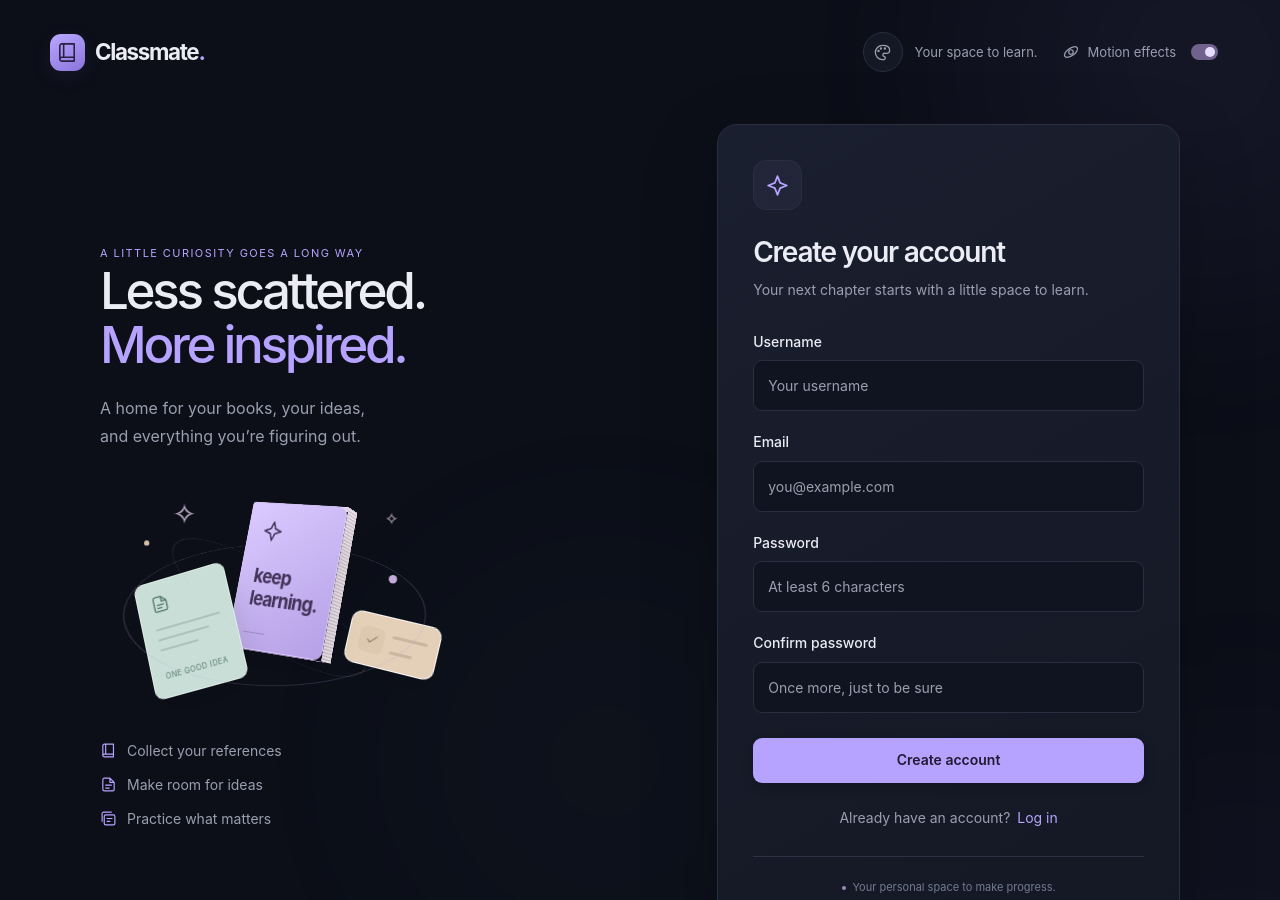
it: authentication and protected pages › keeps registration values and shows password mismatch feedback
Type "student" into the field labelled "Username" at (949, 386), box 753,360 -> 1144,411
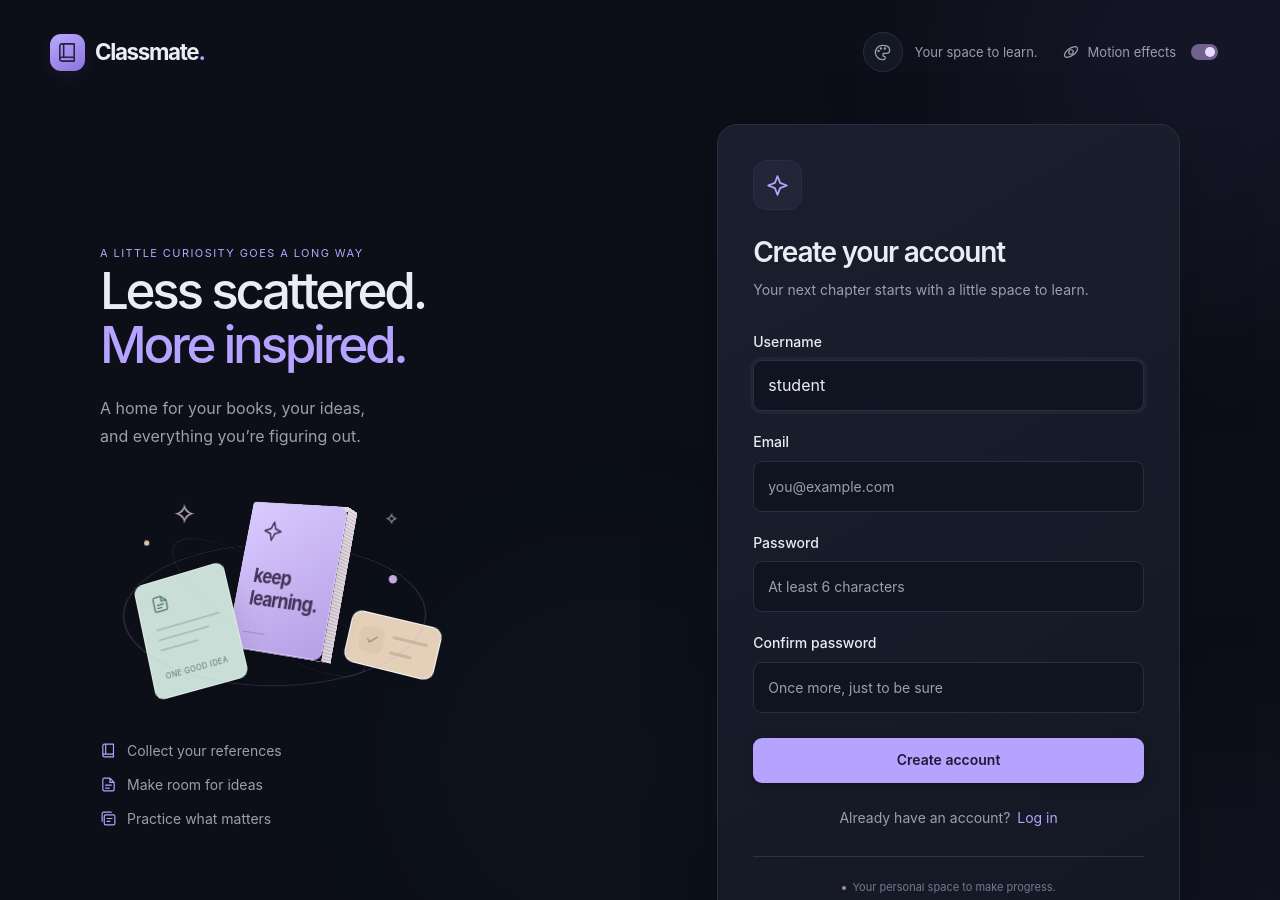
Type "student@example.com" into the field labelled "Email" at (949, 486), box 753,461 -> 1144,512
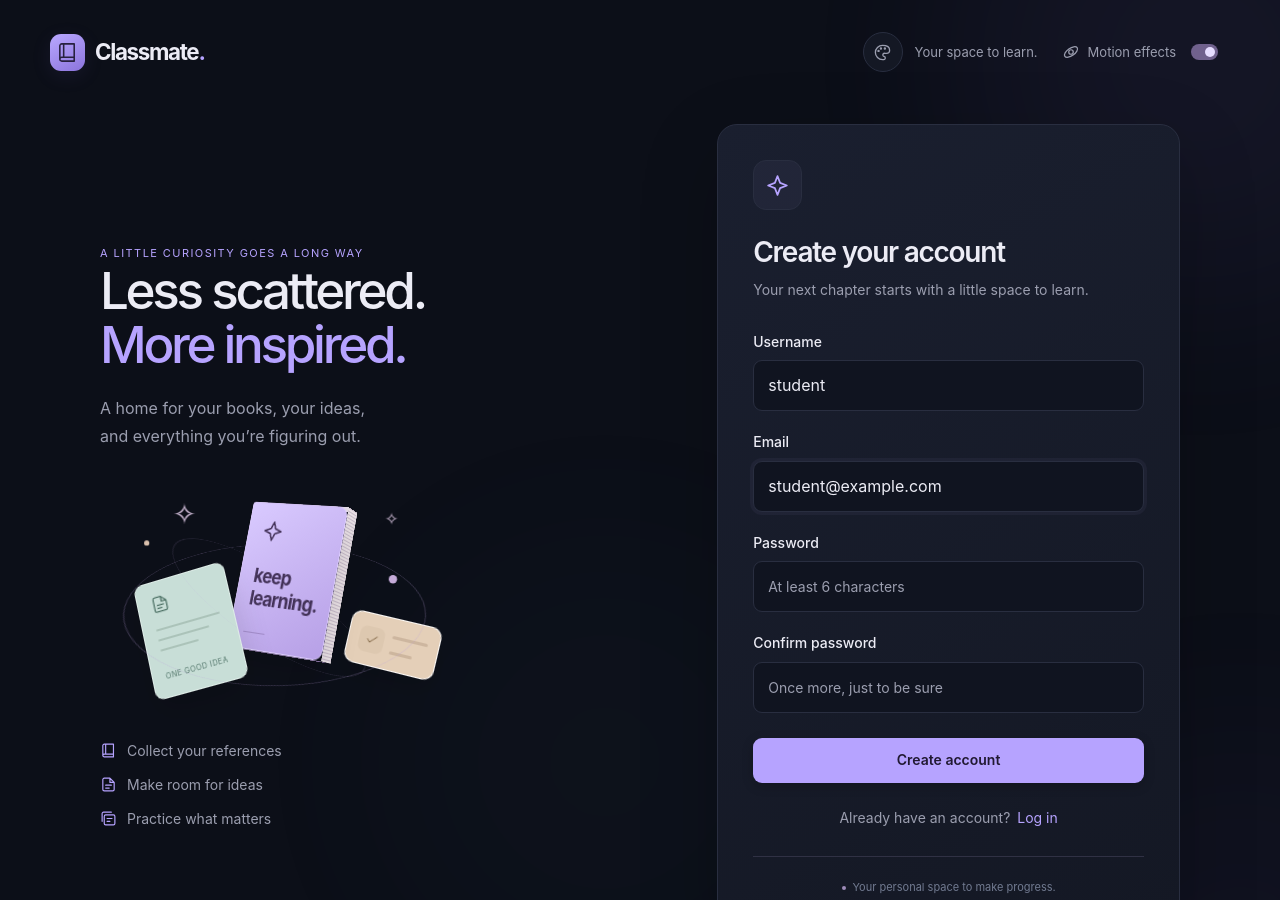
Type "password123" into the password field labelled "Password" at (949, 587), box 753,561 -> 1144,612
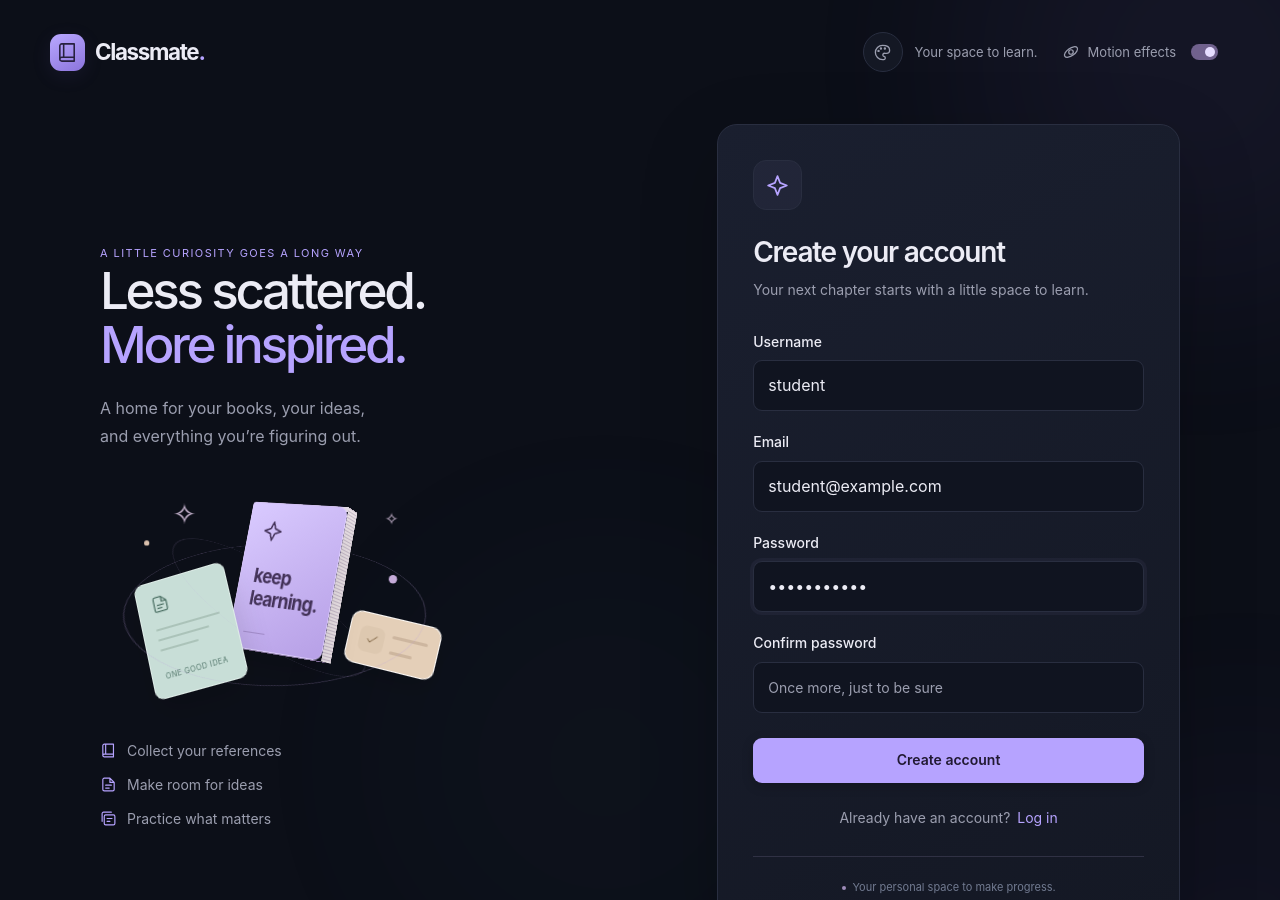
Type "different" into the password field labelled "Confirm password" at (949, 687), box 753,662 -> 1144,713
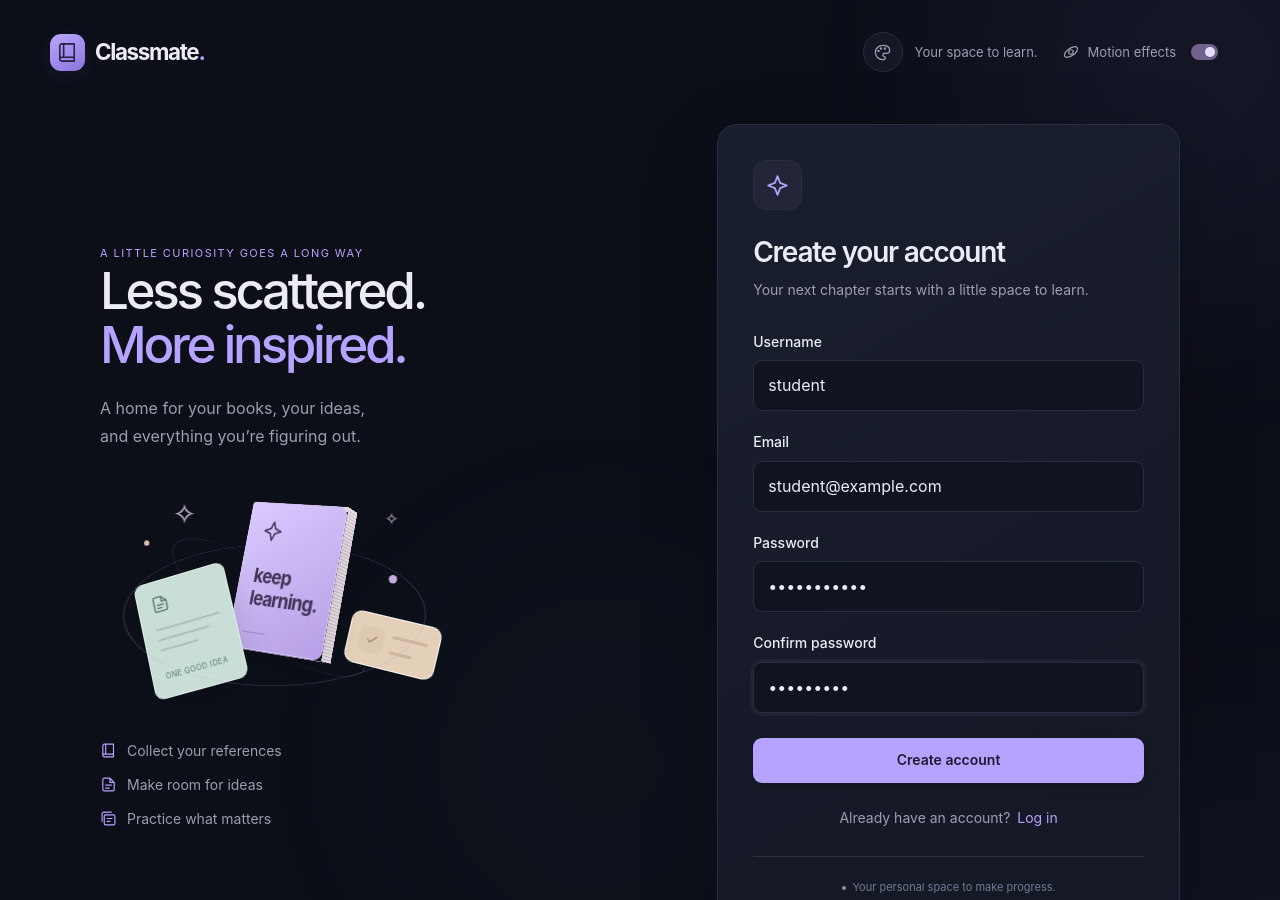
Click the button "Create account" at (949, 760), box 753,738 -> 1144,783
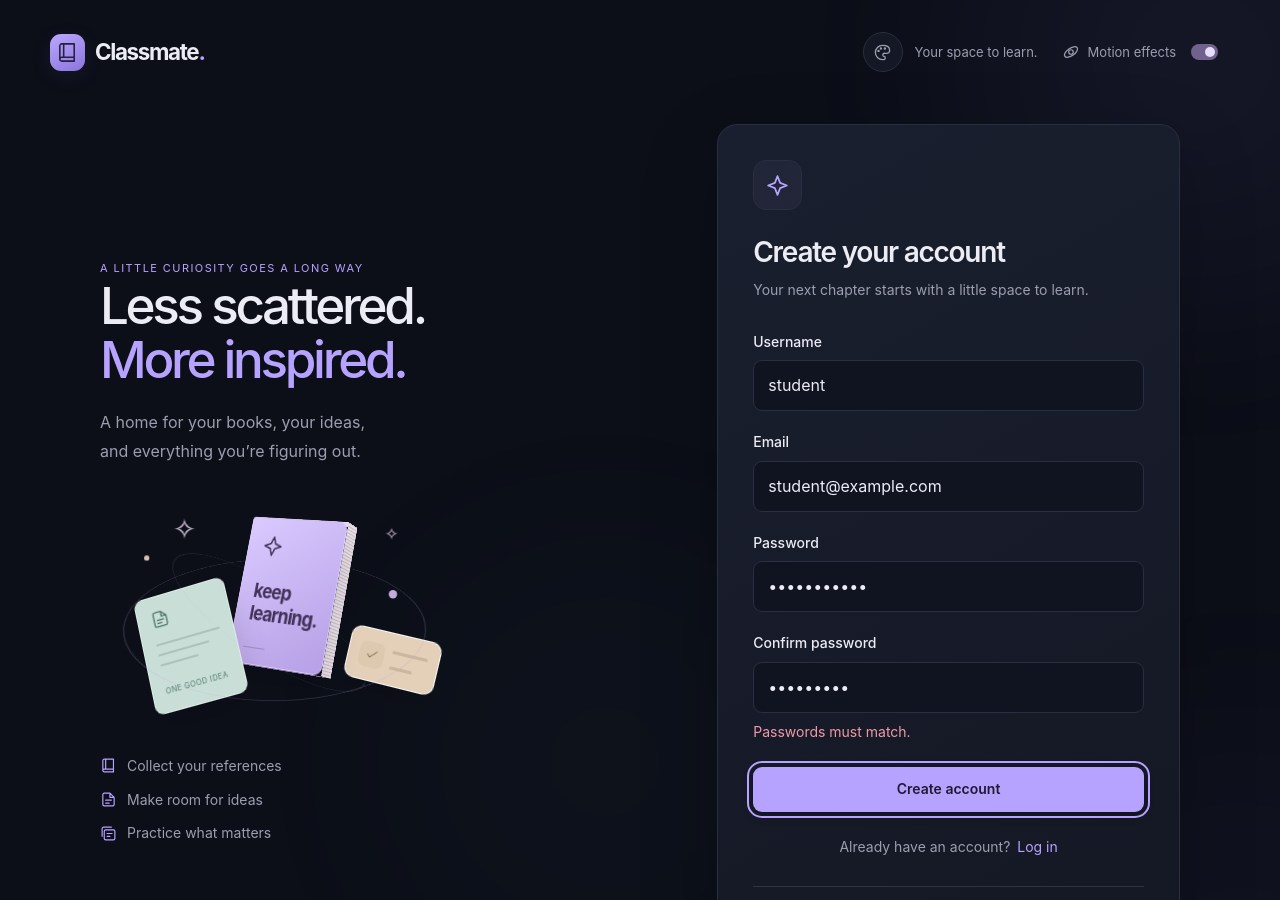
Expected: the message reads "Passwords must match.", 753,723 -> 911,740
